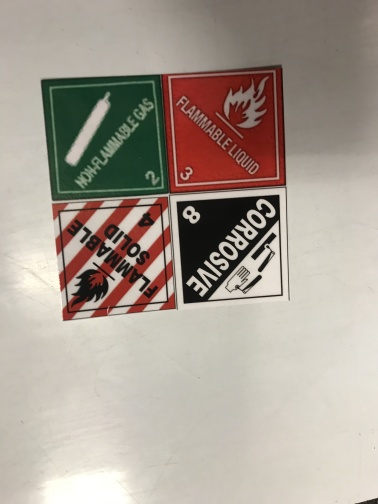Corrosive: (169, 187, 291, 309)
FlammableLiquid: (163, 65, 288, 194)
FlammableSolid: (52, 196, 178, 321)
NonFlammableGas: (41, 76, 170, 200)
